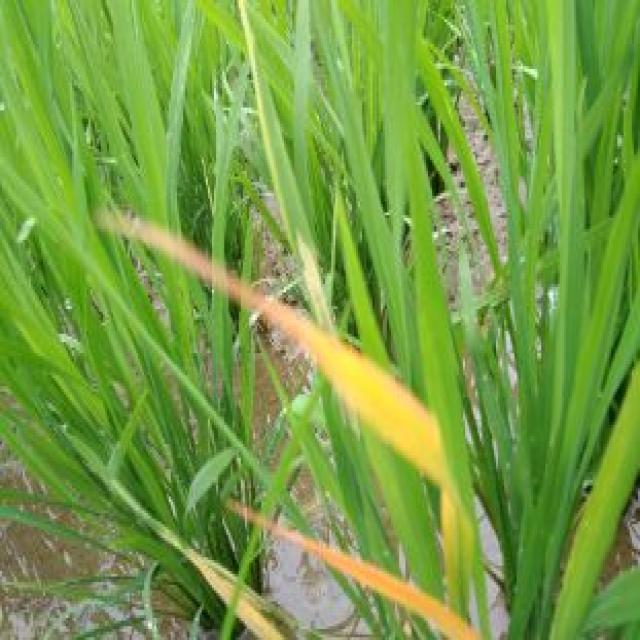Tungro: (110, 179, 467, 493), (224, 498, 492, 640), (94, 206, 263, 307)
